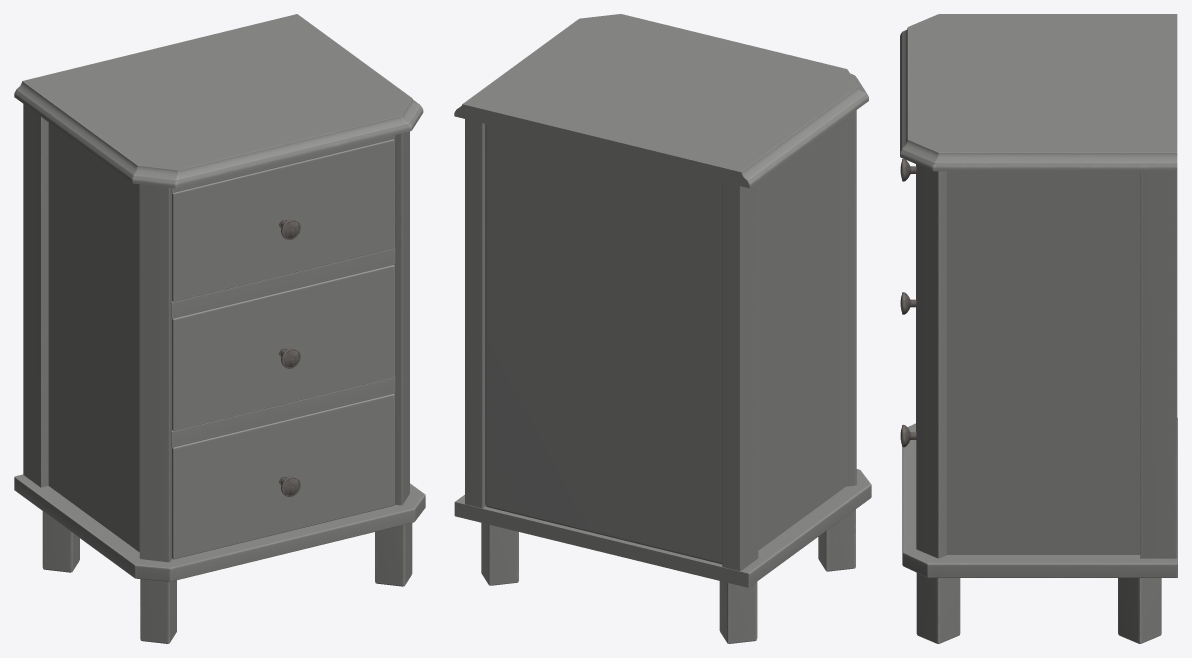
File: table_B07DBDPMWN.glb
3 views of the same model, side by side, from view 1: azimuth 30°, elevation 25°; view 2: azimuth 150°, elevation 25°; view 3: azimuth 270°, elevation 25° (orthographic). The views are drawn at different scales.
Parts seen in each view (by area): view 1: RootNode; view 2: RootNode; view 3: RootNode.
Boxes of the visible parts, x1,y1,x2,y2 form: RootNode: (14,14,425,643); RootNode: (454,14,871,643); RootNode: (900,14,1177,643).
Bounding box in the file's own units: 0.435 × 0.6803 × 0.3478.
Materials: 1 (1 with a texture image).
